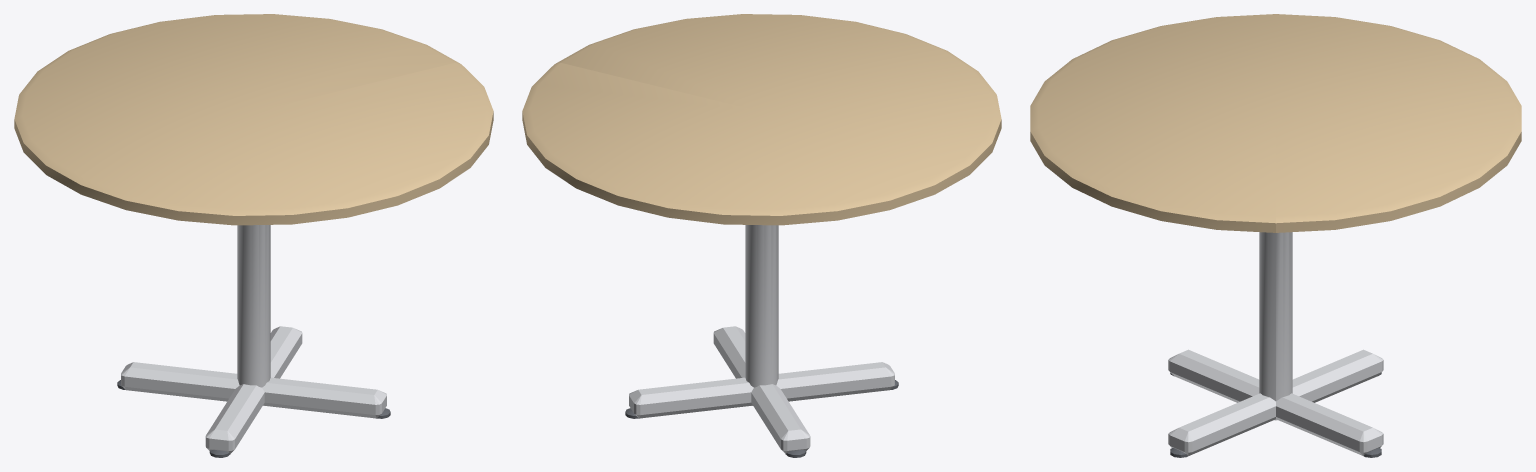
Rendered from university-lecture-hall-and-campus-seminar-table-round-7e84ddf9__34747.glb.
3 renders of one model, left to right at view 1: azimuth 30°, elevation 25°; view 2: azimuth 150°, elevation 25°; view 3: azimuth 270°, elevation 25°, orthographic. The views are drawn at different scales.
Visible parts, largest first — view 1: seminar-table-round-4; view 2: seminar-table-round-4; view 3: seminar-table-round-4.
Boxes of the visible parts, <box> form: seminar-table-round-4: <box>14,14,493,457</box>; seminar-table-round-4: <box>522,14,1001,457</box>; seminar-table-round-4: <box>1030,14,1521,457</box>.
Bounding box in the file's own units: 1.1 × 0.73 × 1.09.
